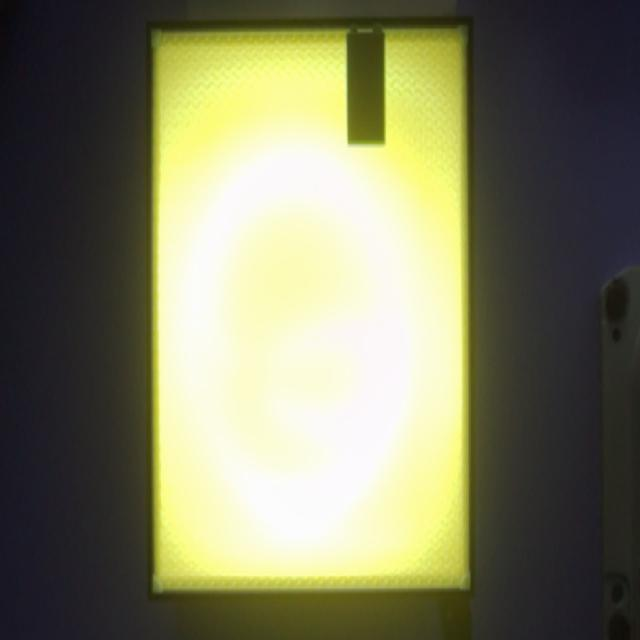bateria: (346, 25, 386, 146)
mesa: (147, 19, 476, 602)
